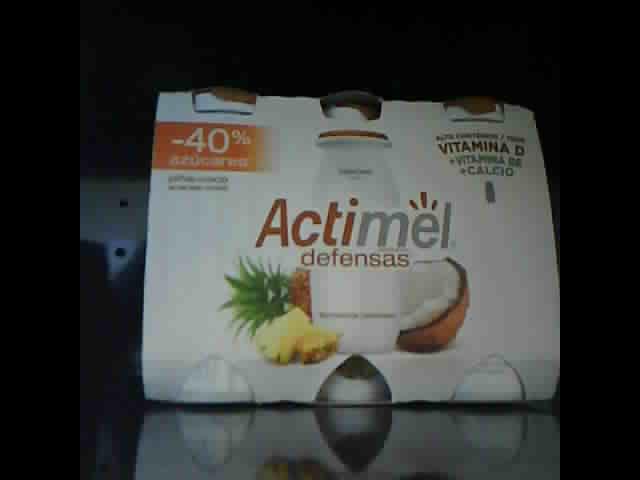actimel: (142, 76, 560, 410)
